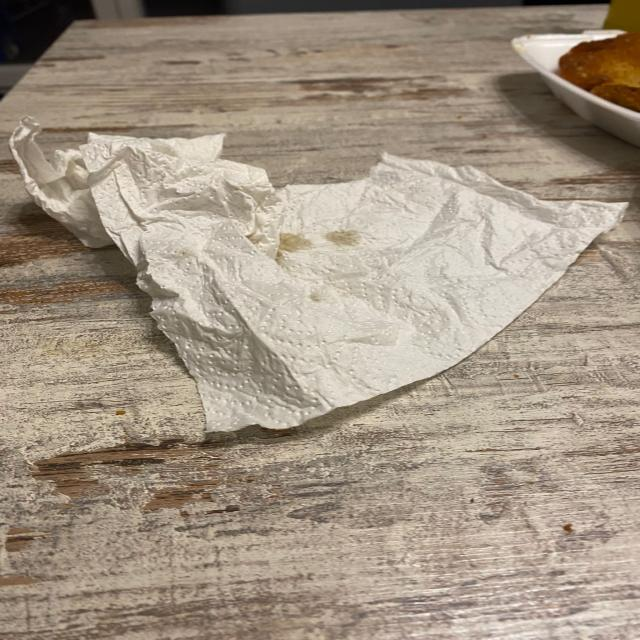kitchen paper: (13, 119, 629, 438)
